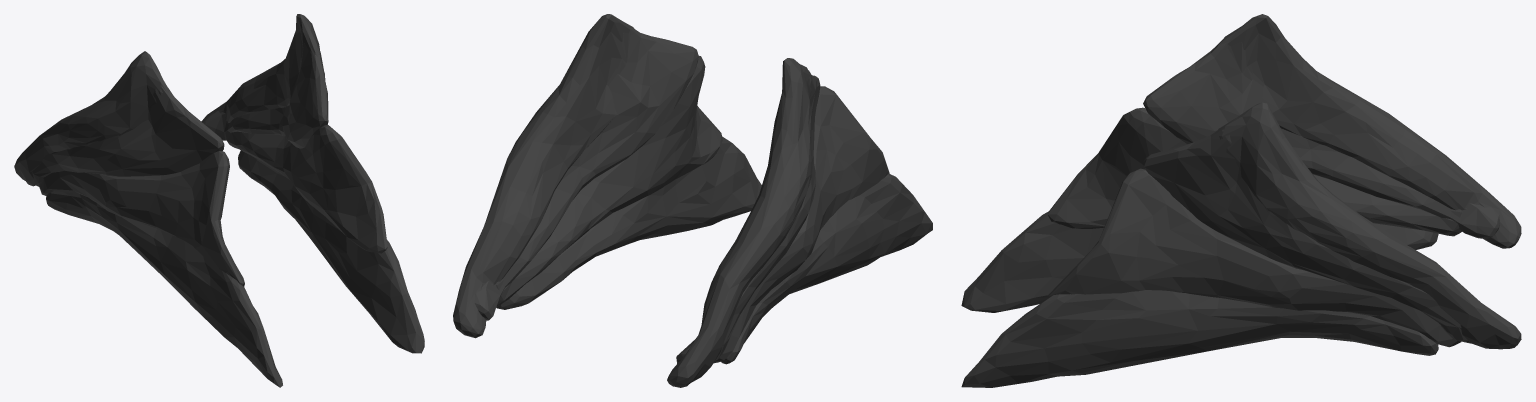
File: m_serratus_ventralis_cervicis.glb
3 views of the same model, side by side, from view 1: azimuth 30°, elevation 25°; view 2: azimuth 150°, elevation 25°; view 3: azimuth 270°, elevation 25° (orthographic). The views are drawn at different scales.
Parts seen in each view (by area): view 1: m_serratus_ventralis_cervicis; view 2: m_serratus_ventralis_cervicis; view 3: m_serratus_ventralis_cervicis.
Boxes of the visible parts, box(x1,y1,x2,y2) form: m_serratus_ventralis_cervicis: box(14, 14, 424, 387); m_serratus_ventralis_cervicis: box(453, 14, 932, 387); m_serratus_ventralis_cervicis: box(961, 14, 1521, 387).
Bounding box in the file's own units: 0.00223 × 0.00223 × 0.00389.
Materials: 1 (1 with a texture image).
